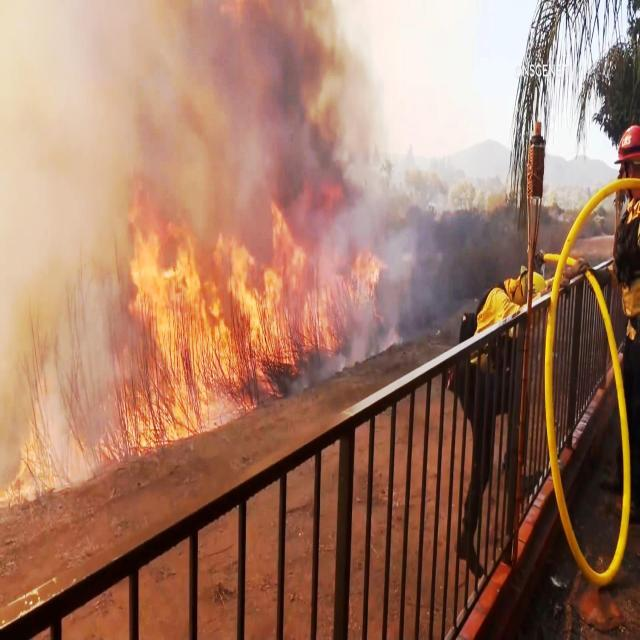Fire: (123, 206, 384, 454), (2, 366, 122, 499)
Smoke: (0, 0, 425, 206), (2, 205, 122, 368), (390, 212, 452, 334)
